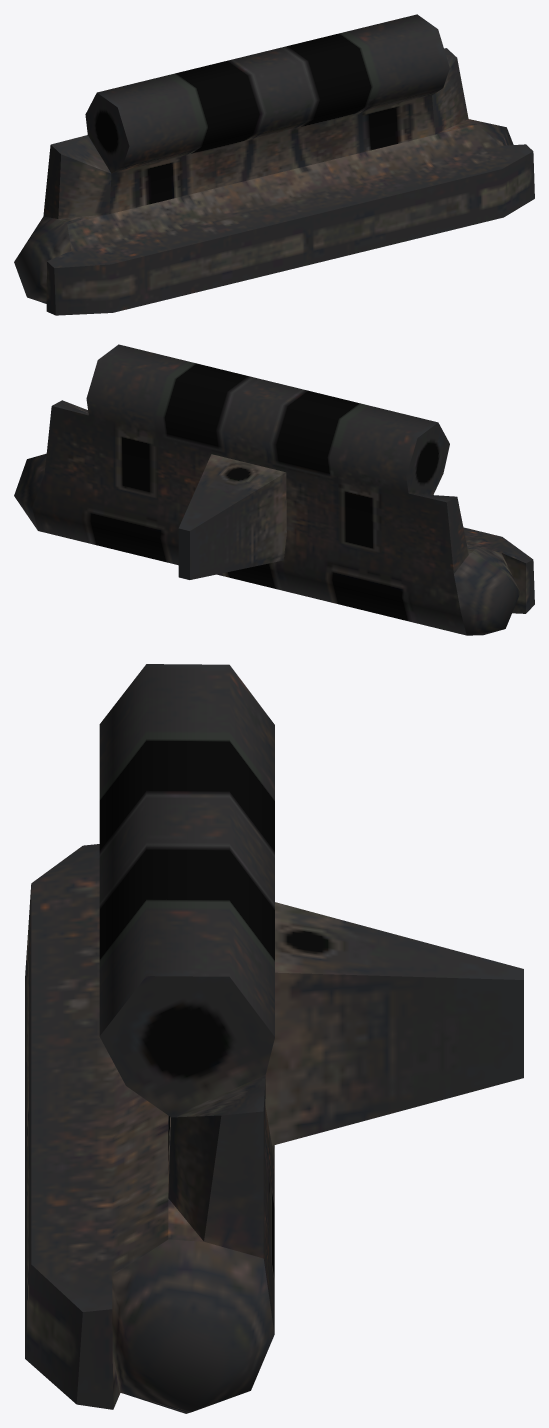
3 renders of one model, top to bottom at view 1: azimuth 30°, elevation 25°; view 2: azimuth 150°, elevation 25°; view 3: azimuth 270°, elevation 25°, orthographic. The views are drawn at different scales.
Parts seen in each view (by area): view 1: set_0_group_0; view 2: set_0_group_0; view 3: set_0_group_0.
Boxes of the visible parts, box(x1,y1,x2,y2) form: set_0_group_0: box(14, 14, 534, 315); set_0_group_0: box(14, 344, 534, 635); set_0_group_0: box(25, 664, 523, 1413).
Bounding box in the file's own units: 0.4036 × 0.1549 × 0.1821.
1 material, 1 textured.
